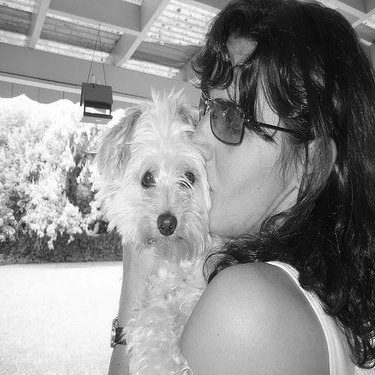dog: (61, 74, 230, 373)
